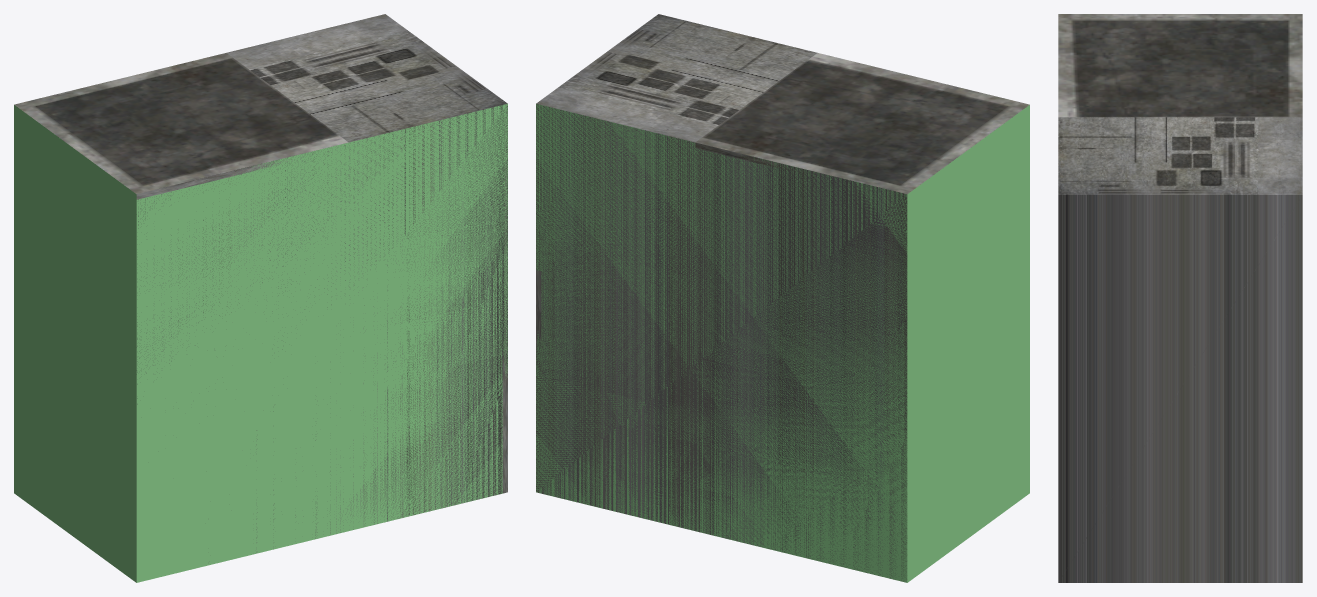
Rendered from hvac_duct_elbow.DAE.
3 renders of one model, left to right at view 1: azimuth 30°, elevation 25°; view 2: azimuth 150°, elevation 25°; view 3: azimuth 270°, elevation 25°, orthographic.
Visible parts, largest first — view 1: bounds, colbox-01, hvac_duct_elbow; view 2: bounds, colbox-01, hvac_duct_elbow; view 3: colbox-01, hvac_duct_elbow.
Part boxes in pixels (box(x1,y1,x2,y2)): bounds: box(14, 103, 507, 582); colbox-01: box(137, 14, 507, 552); hvac_duct_elbow: box(14, 53, 507, 493); bounds: box(536, 104, 1029, 582); colbox-01: box(536, 14, 907, 580); hvac_duct_elbow: box(536, 53, 1029, 352); colbox-01: box(1058, 117, 1302, 582); hvac_duct_elbow: box(1058, 14, 1302, 117).
Size of the model in its own units: 140 by 80 by 140.
